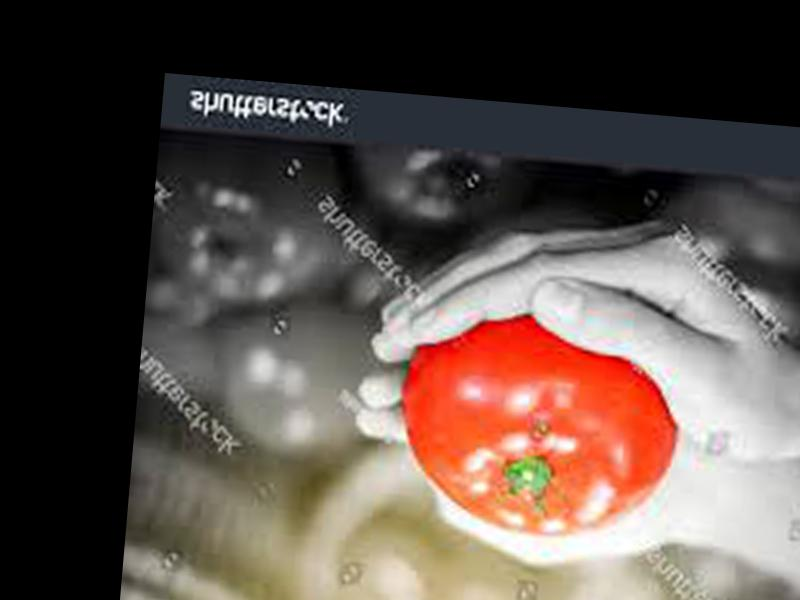Tomato: (393, 306, 685, 545)
